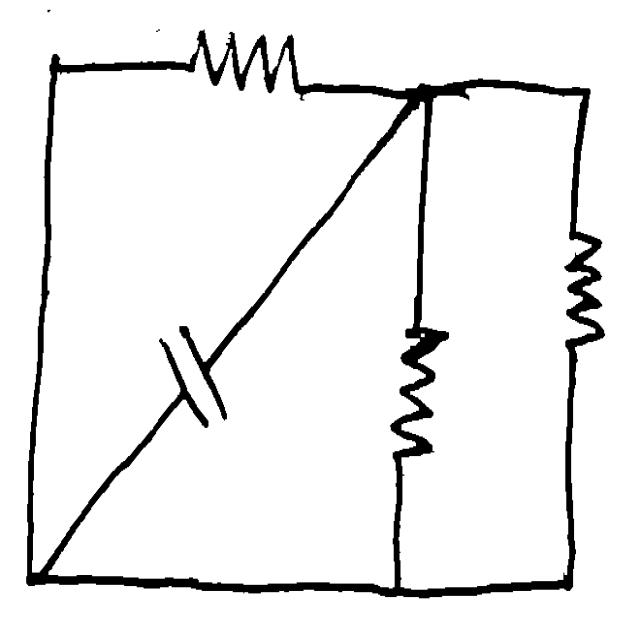capacitor: (149, 312, 246, 438)
resistor: (180, 12, 314, 119), (376, 306, 454, 477), (548, 203, 616, 359)
